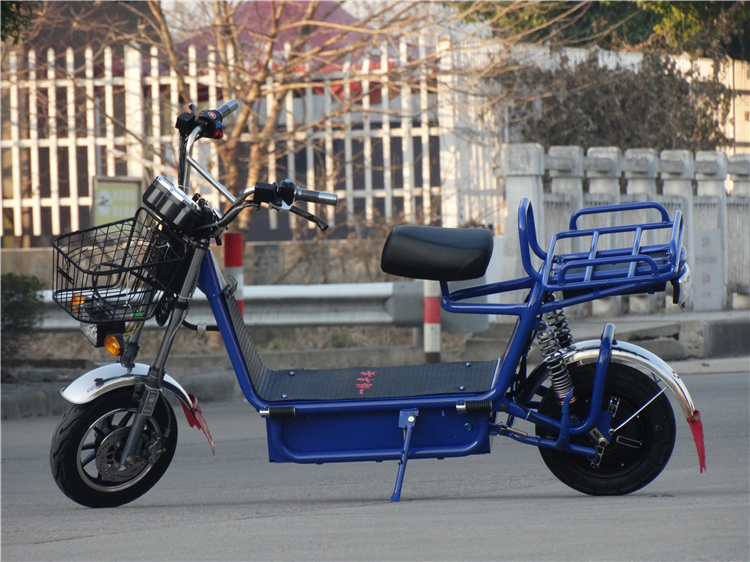电动车: (44, 88, 718, 514)
